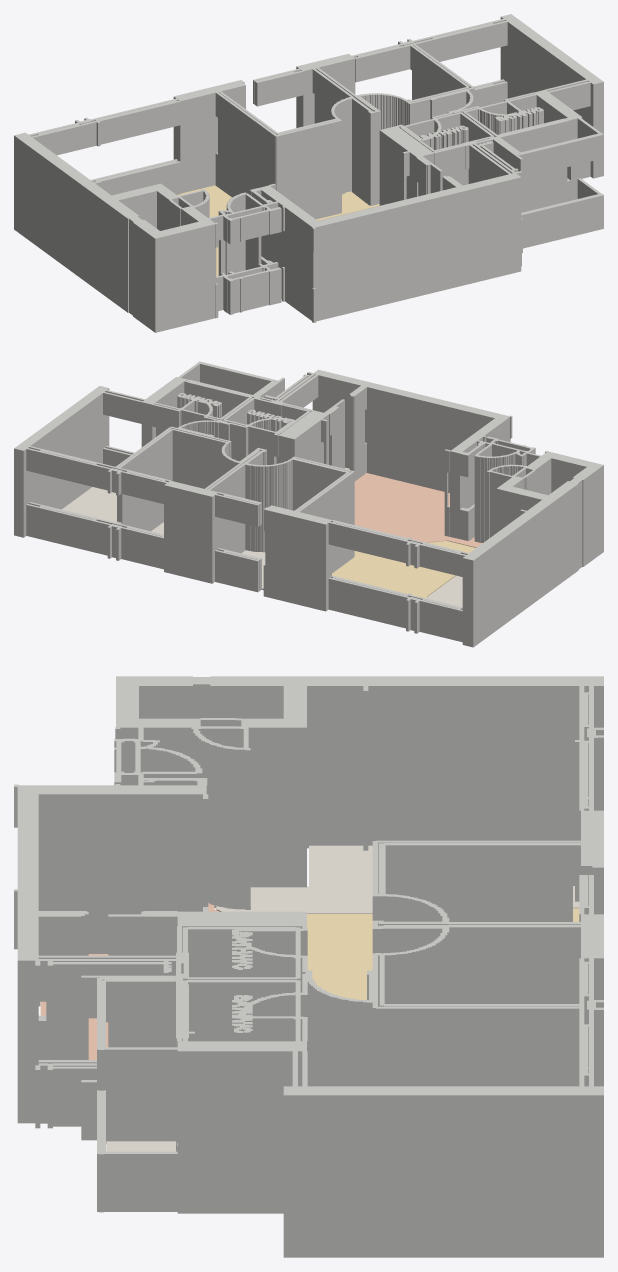
The picture shows the model from 3 angles, top to bottom: view 1: azimuth 30°, elevation 25°; view 2: azimuth 150°, elevation 25°; view 3: azimuth 270°, elevation 25°; orthographic projection. The views are drawn at different scales.
Visible parts, largest first — view 1: walls, room:living:1; view 2: walls, room:kitchen:3, room:living:1, room:other:6, room:other:0; view 3: walls, room:other:0, room:living:1, room:other:15.
Boxes of the visible parts, x1,y1,x2,y2 form: walls: (14, 14, 603, 332); room:living:1: (177, 185, 379, 276); walls: (14, 361, 603, 647); room:kitchen:3: (354, 473, 482, 547); room:living:1: (332, 540, 475, 598); room:other:6: (62, 487, 116, 522); room:other:0: (427, 575, 462, 607); walls: (14, 676, 603, 1257); room:other:0: (216, 845, 579, 913); room:living:1: (307, 908, 579, 999); room:other:15: (106, 1141, 175, 1151).
Bounding box in the file's own units: 15.48 × 2.8 × 9.21.
